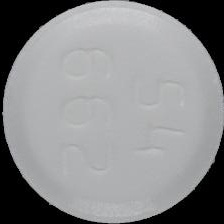63187-383: (0, 0, 224, 224)
